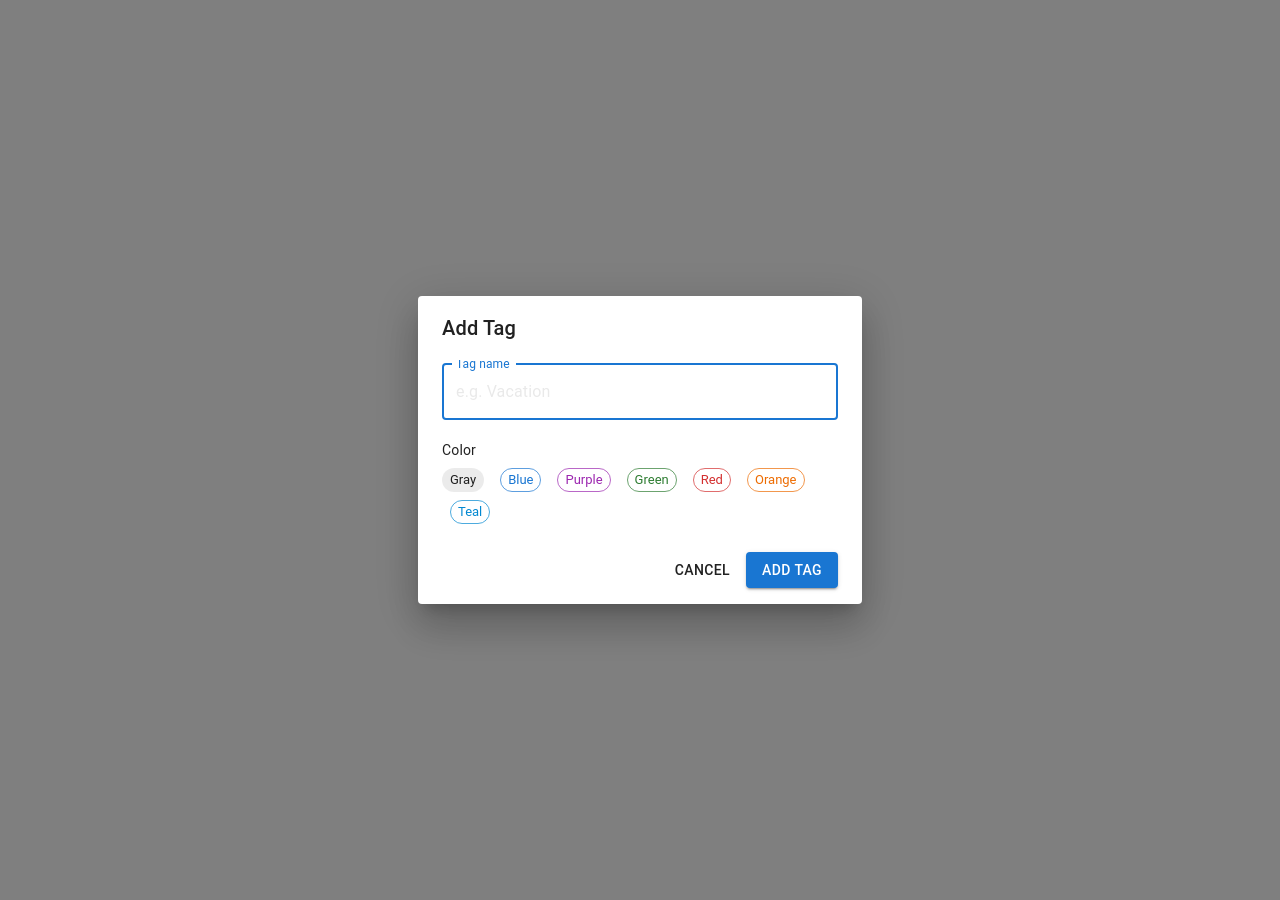
Test case: TagFormDialog › shows a validation error and does not submit a blank name
Click the button "Add Tag": (792, 570) left=746, top=552, right=838, bottom=588
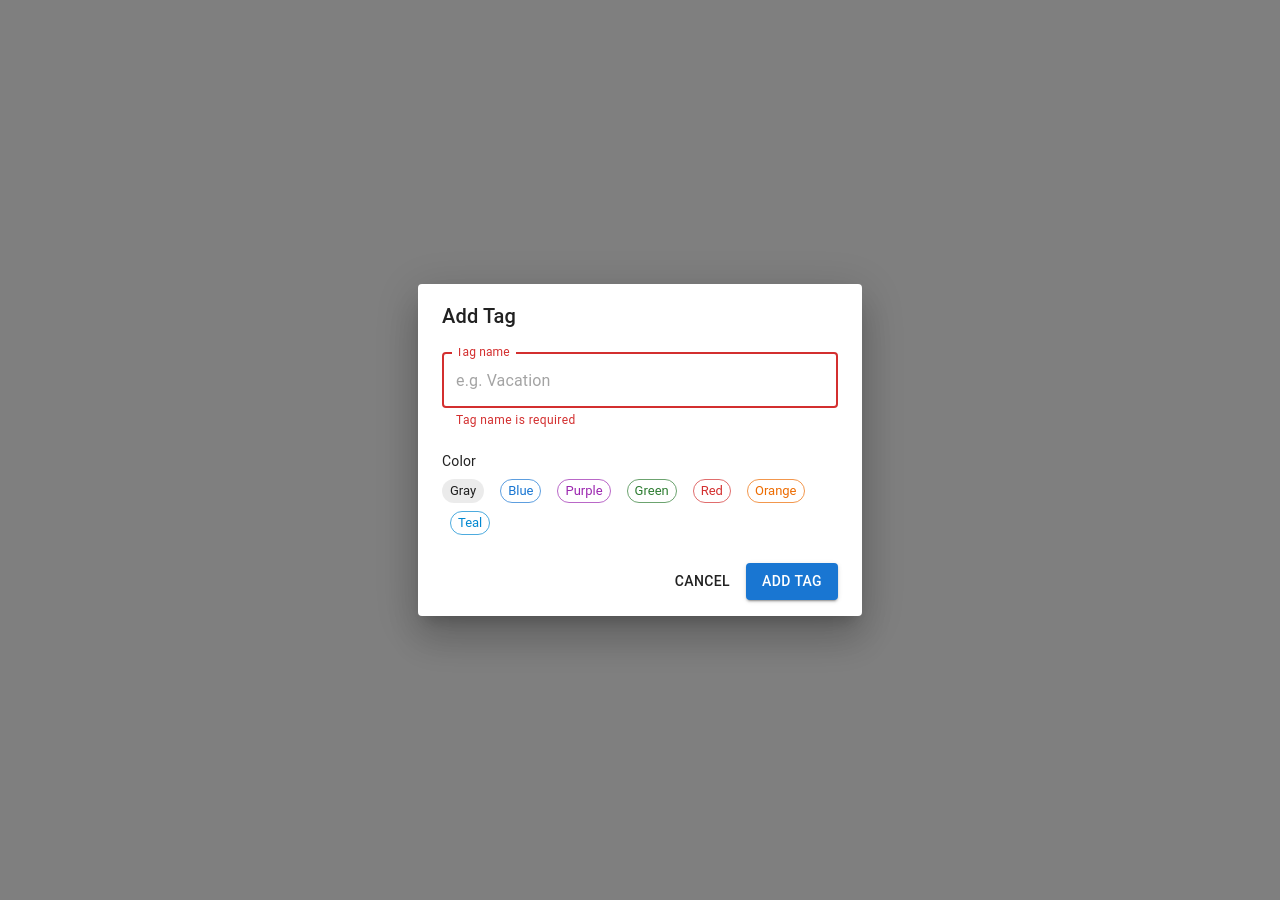
Result: the text "Tag name is required" is shown at left=456, top=413, right=576, bottom=427
